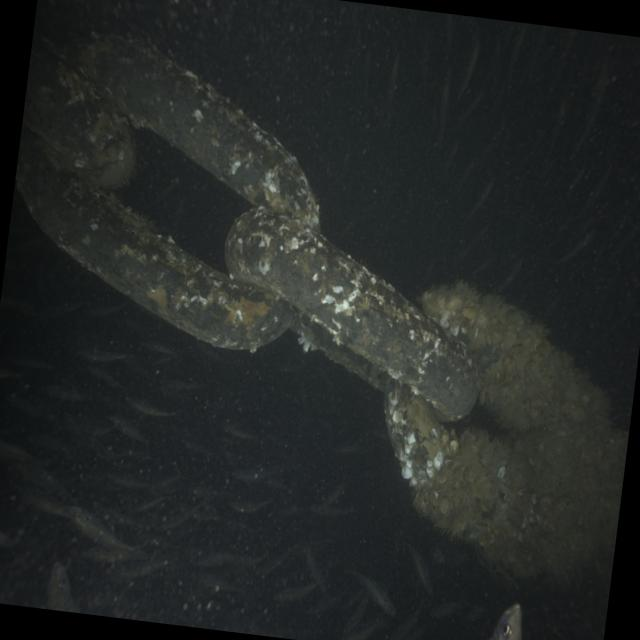ChainLink: (385, 284, 628, 576), (15, 128, 295, 348), (225, 208, 477, 419), (72, 34, 319, 230), (23, 41, 134, 188), (290, 312, 390, 391)
